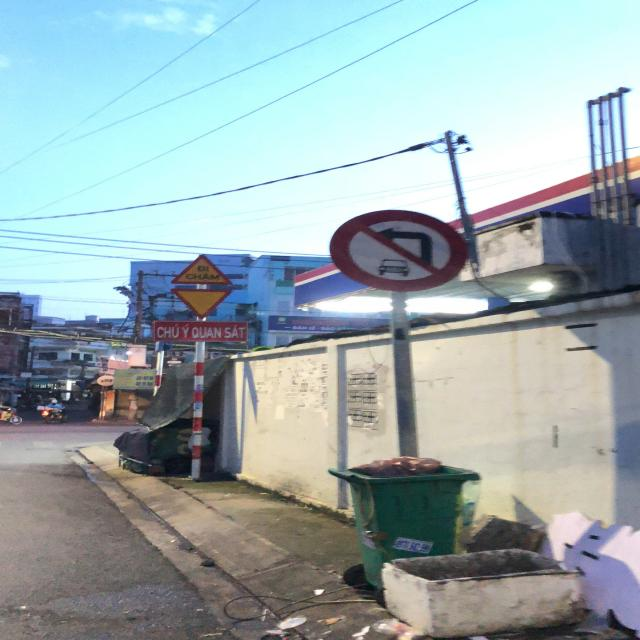Bien bao cam xe o to re trai: (330, 210, 477, 291)
Bien bao di cham: (170, 250, 234, 286)
Bien bao giao nhau voi duong uu tien: (164, 285, 237, 319)
